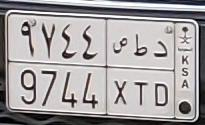4: (81, 25, 100, 109), (61, 23, 79, 108)
7: (40, 22, 58, 105)
9: (20, 21, 38, 106)
D: (152, 40, 170, 107)
T: (133, 33, 149, 106)
X: (112, 36, 129, 106)
